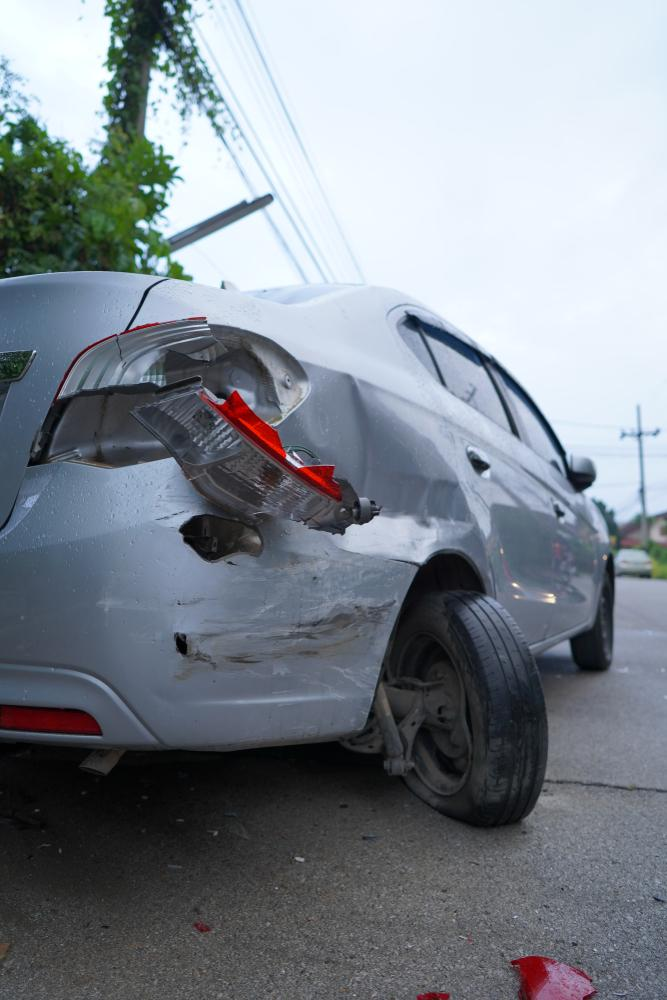crack: (179, 512, 263, 565)
dent: (300, 362, 474, 559)
lamp broken: (44, 324, 340, 532)
scratch: (167, 558, 395, 685)
tire flat: (383, 589, 550, 826)
